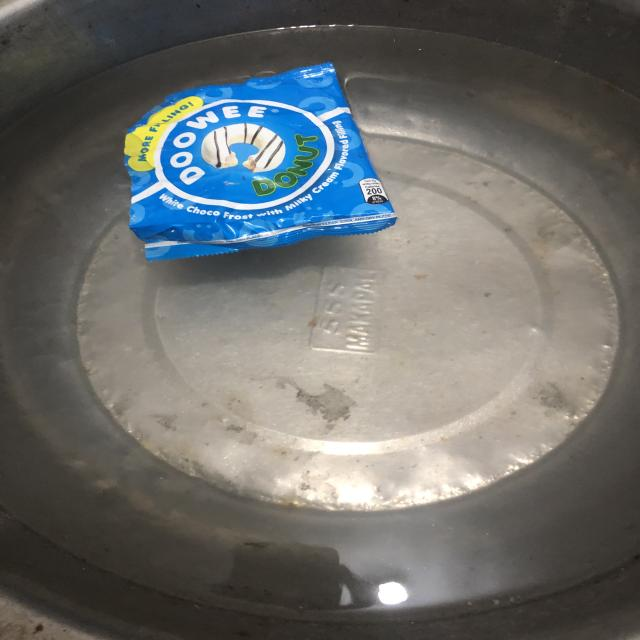Plastic Wrapper: (124, 63, 396, 260)
